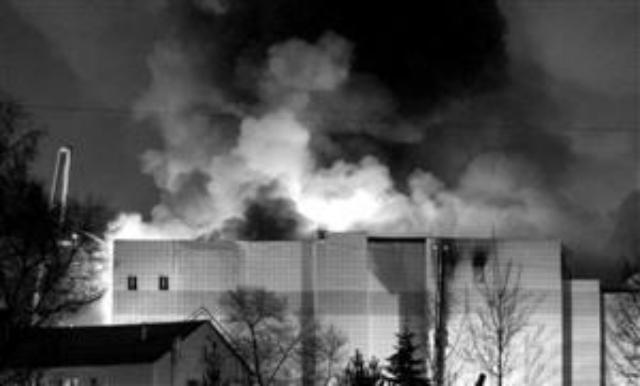smoke: (175, 0, 520, 107), (288, 114, 550, 224), (136, 114, 282, 226)
